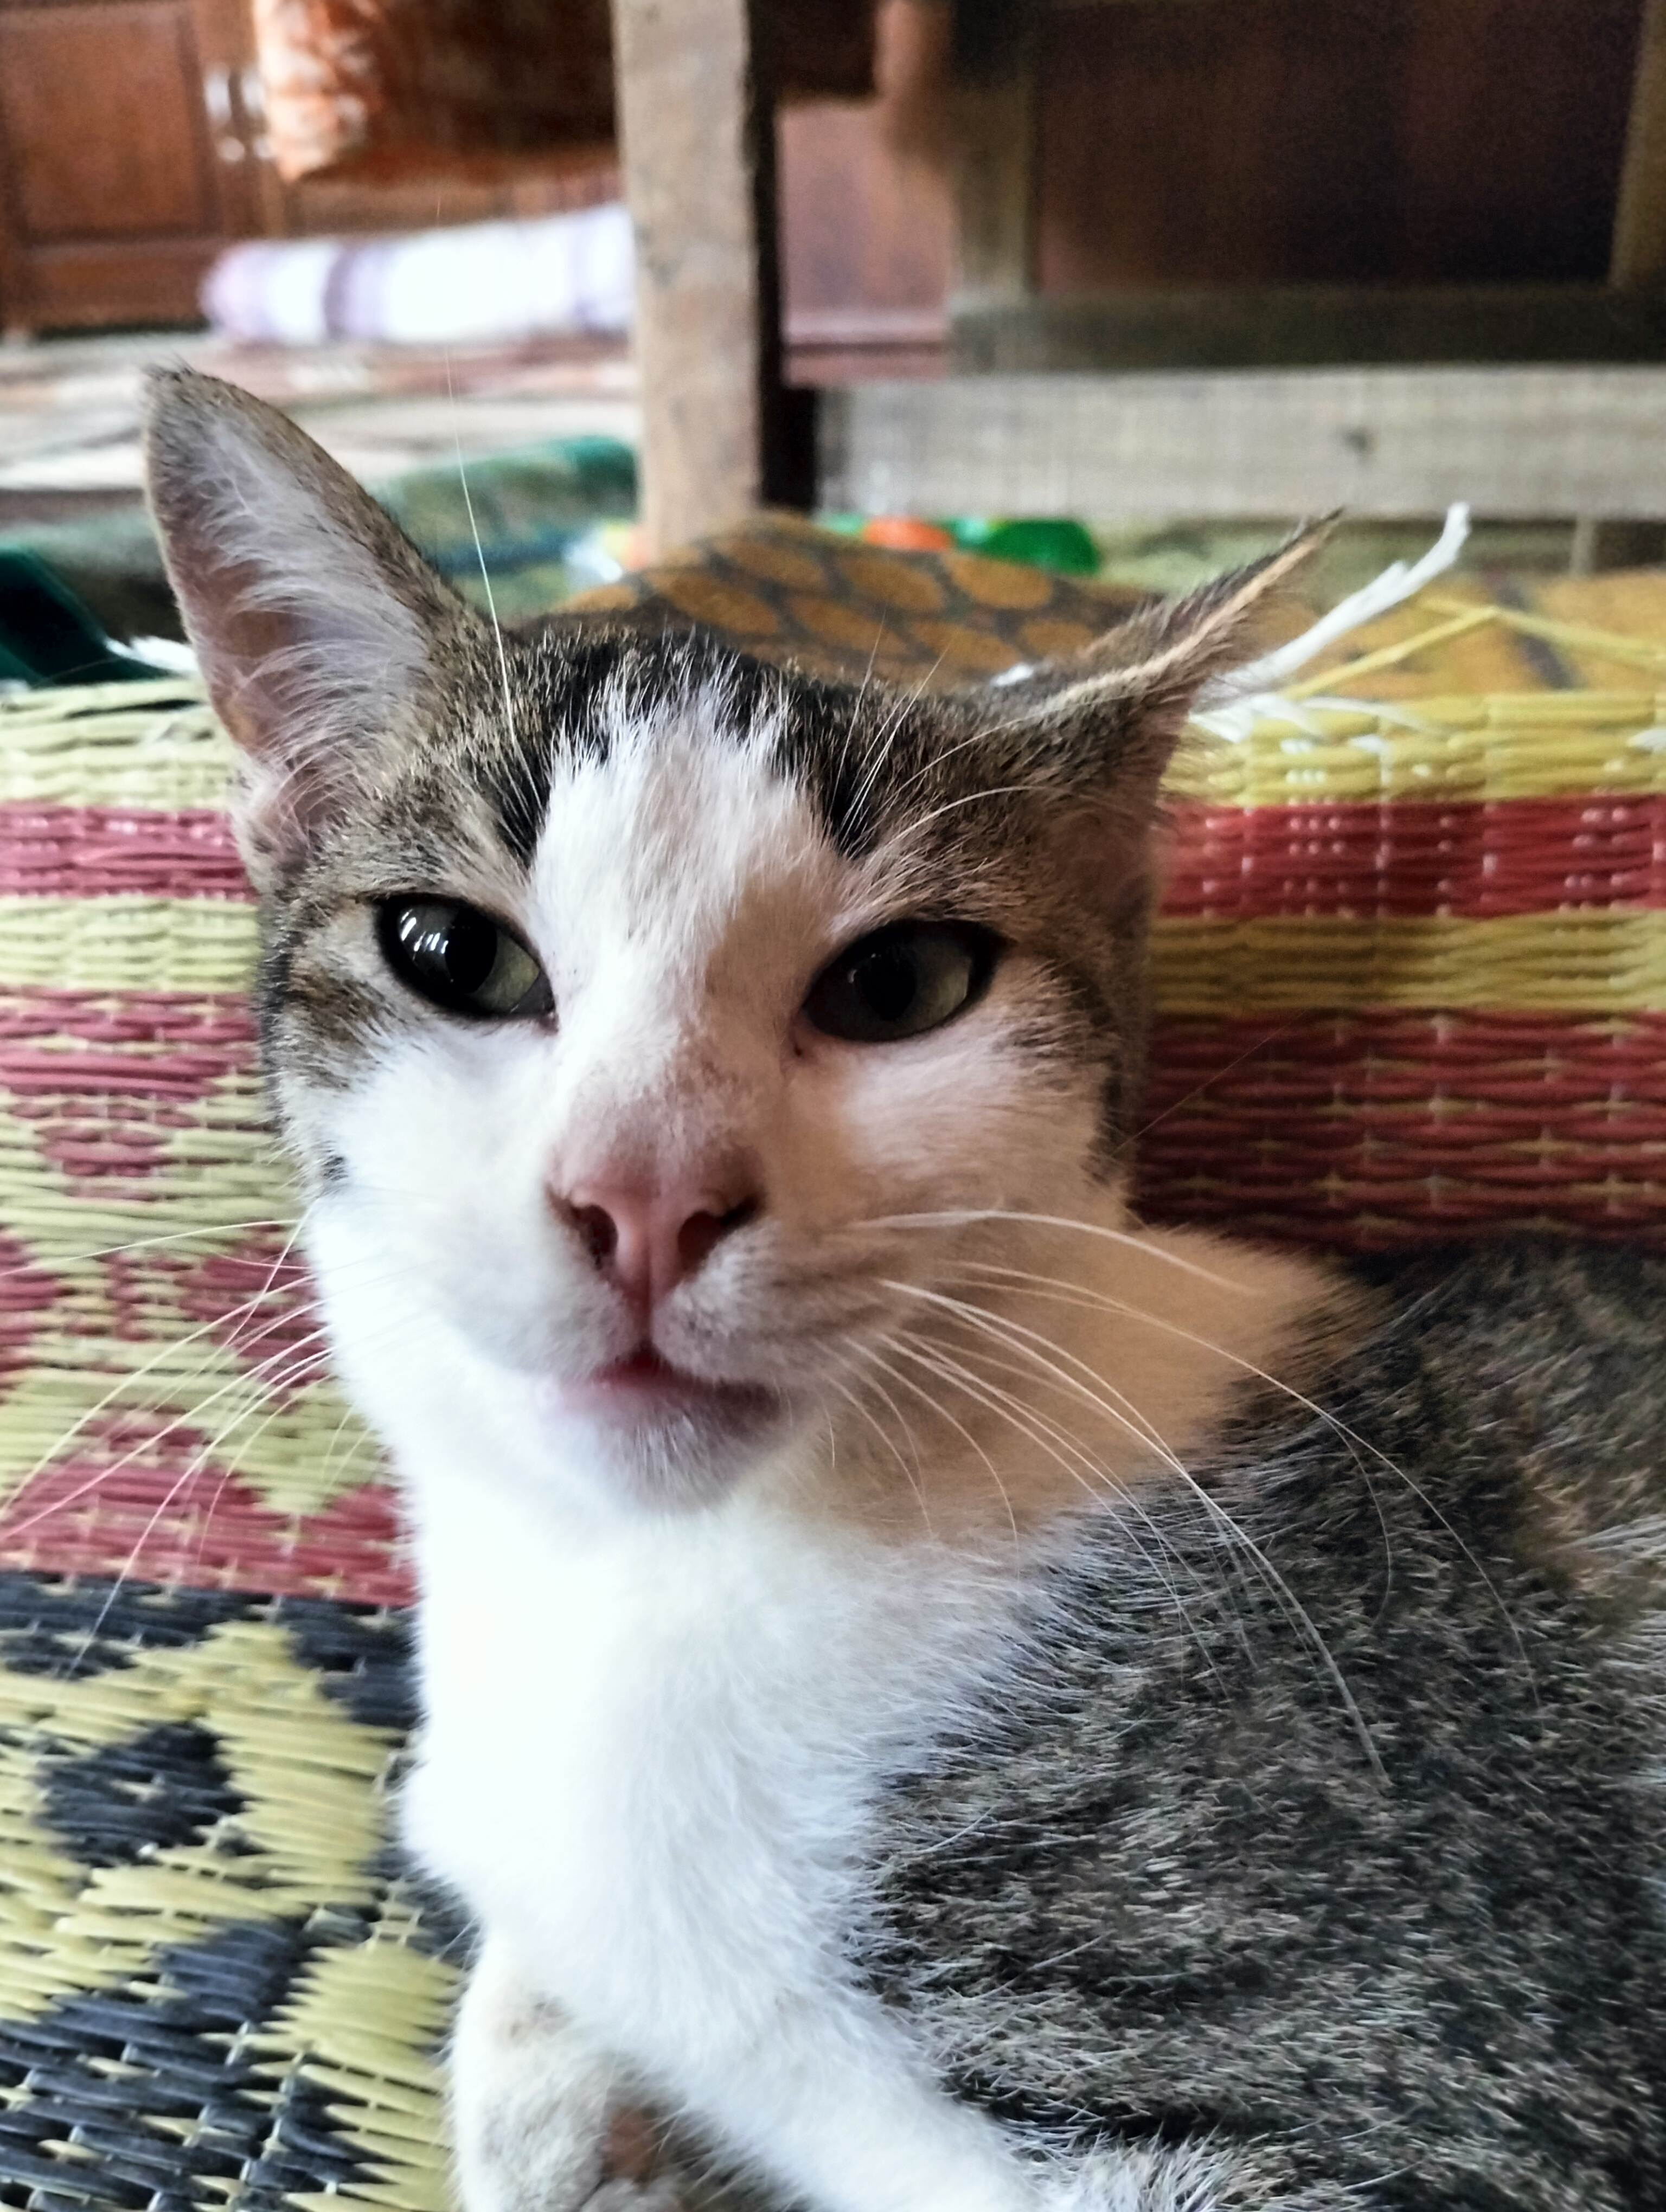miki: (96, 318, 1398, 1623)
